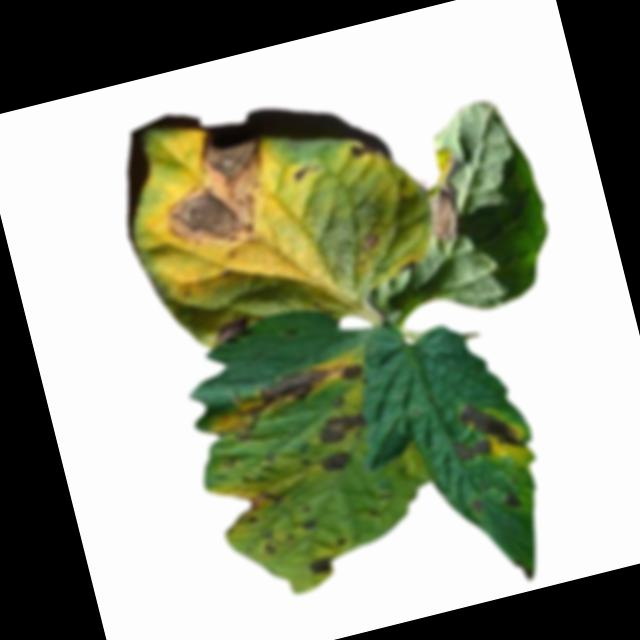Early_blight: (142, 118, 287, 263), (233, 361, 342, 429), (411, 145, 473, 245), (459, 395, 522, 459), (313, 406, 371, 448), (208, 313, 254, 348), (348, 137, 392, 172), (451, 433, 494, 466), (313, 447, 353, 479), (245, 486, 285, 514), (305, 555, 338, 581), (338, 361, 366, 386), (287, 165, 313, 187), (359, 232, 380, 255), (500, 492, 522, 511), (469, 496, 486, 516), (258, 541, 278, 558)
